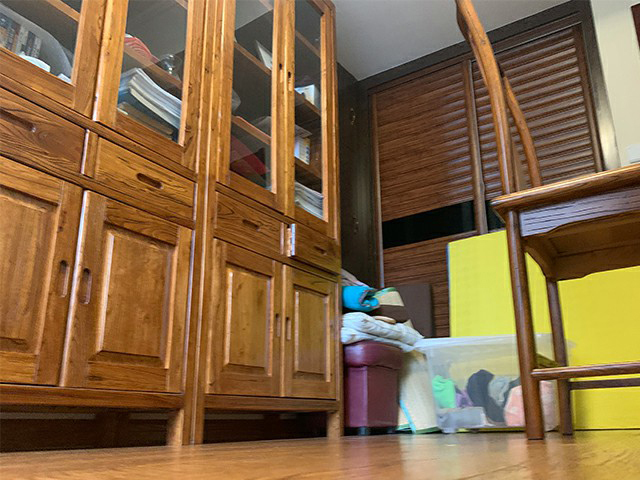cabinet: (1, 1, 344, 446)
stool: (454, 1, 640, 440)
